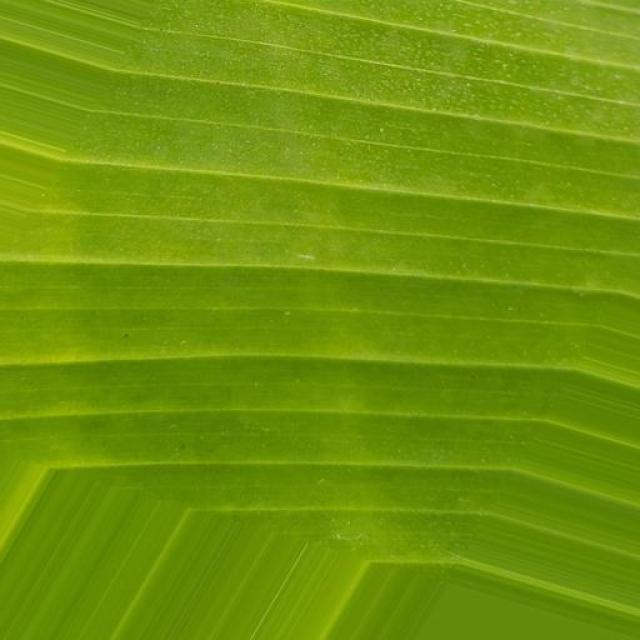Black_leaf_spot: (35, 0, 640, 569)
